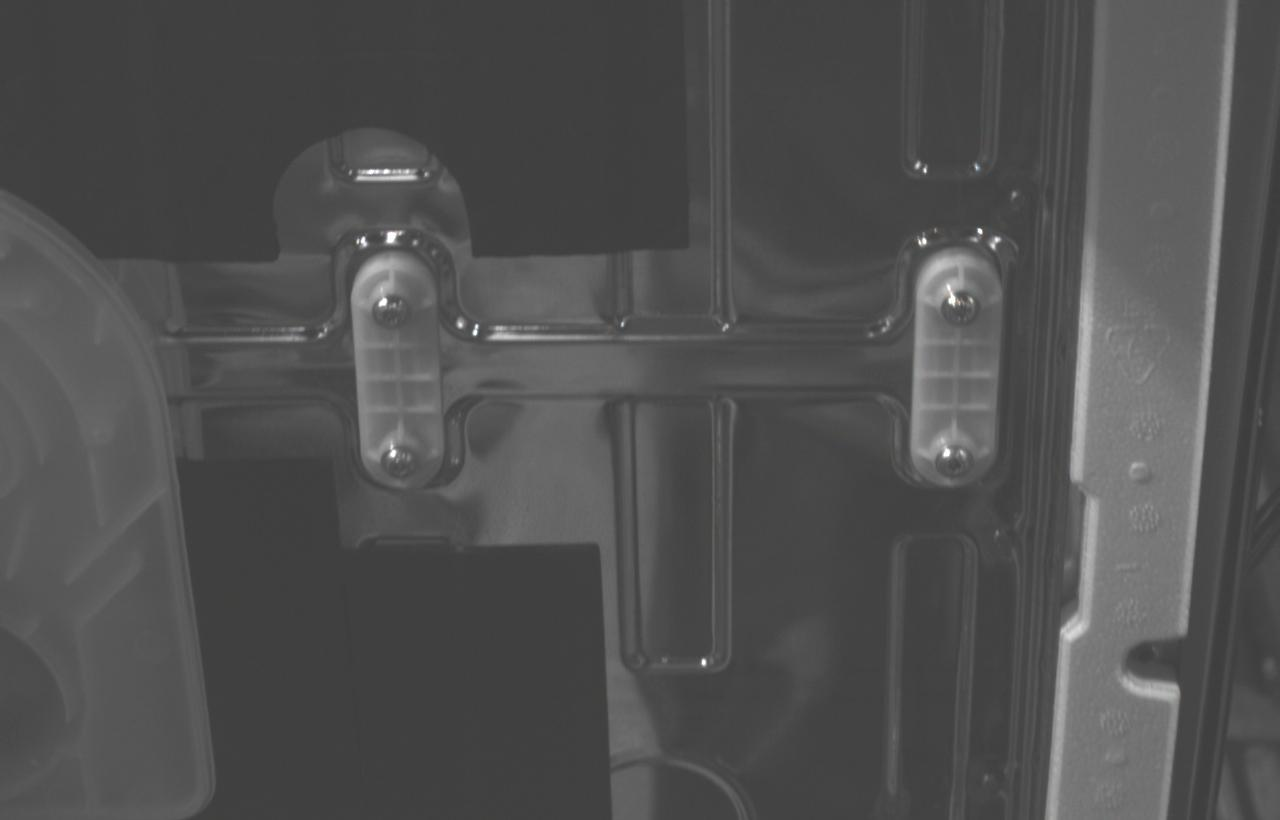vida-ok: (939, 289, 982, 330), (934, 443, 975, 481), (372, 294, 410, 330), (379, 446, 418, 481)
